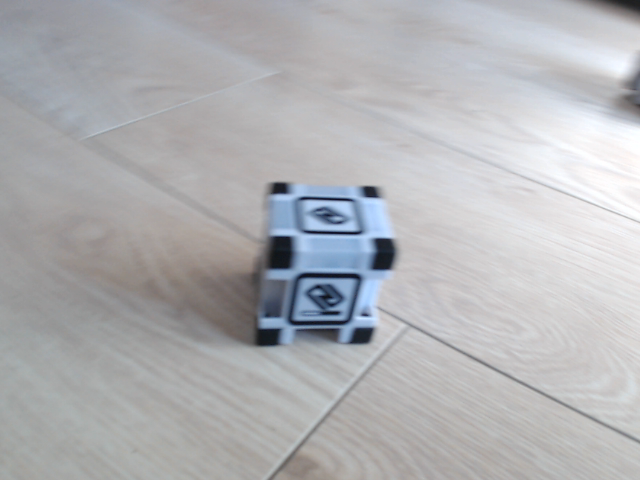block: (247, 179, 403, 355)
